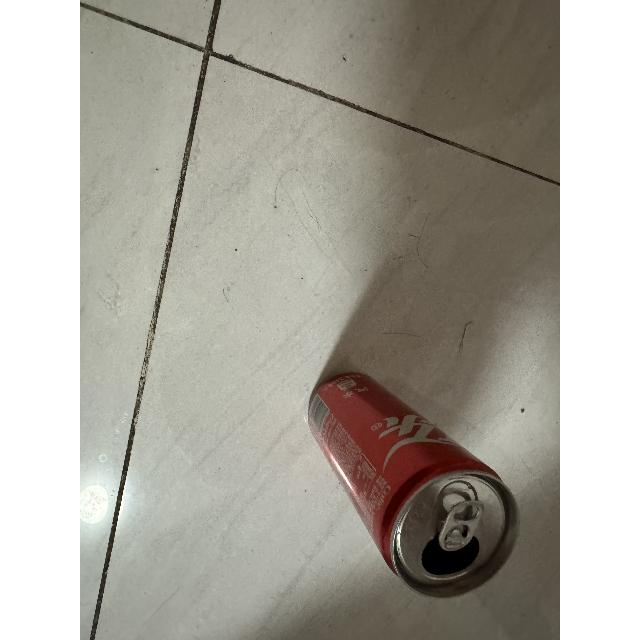coca-cola: (305, 368, 527, 602)
